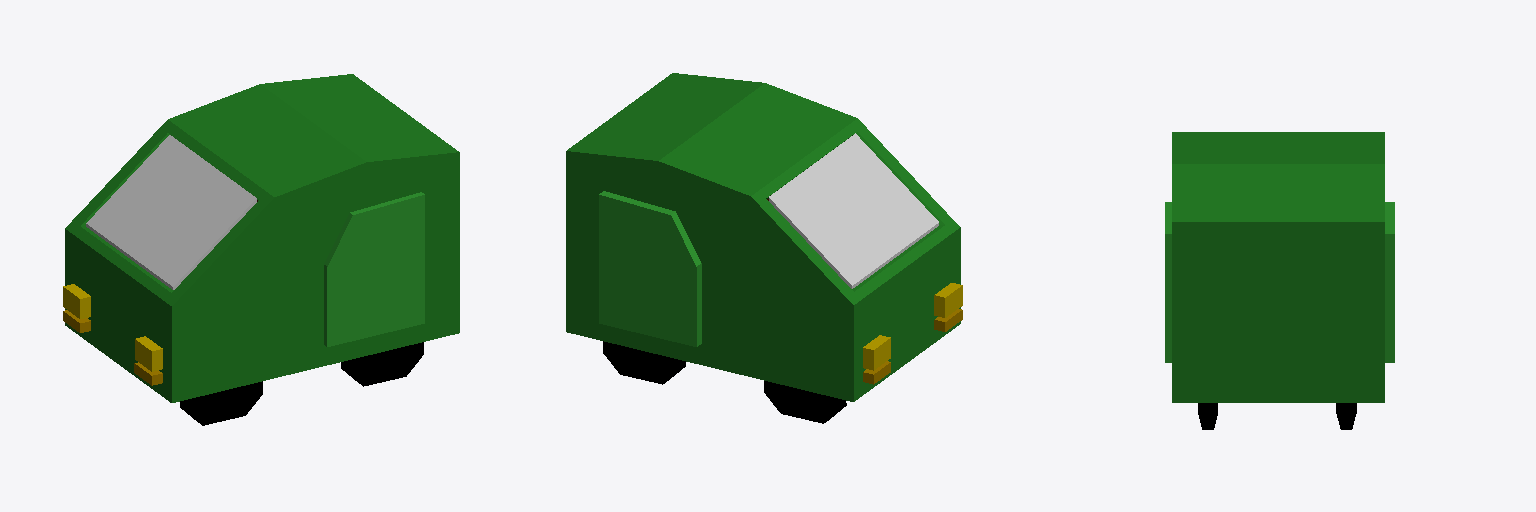
Rendered from Car3.obj.
3 renders of one model, left to right at view 1: azimuth 30°, elevation 25°; view 2: azimuth 150°, elevation 25°; view 3: azimuth 270°, elevation 25°, orthographic.
Visible parts, largest first — view 1: Car_Cube, Window_Cube.003, RightDoor_Cube.011, RightBackWhell_Cube.014, RightFrontWheel_Cube.012, RightFlash_Cube.004, LeftFlash_Cube.002; view 2: Car_Cube, Window_Cube.003, LeftDoor_Cube.010, LeftBackWheel_Cube.015, LeftFrontWheel_Cube.013, RightFlash_Cube.004, LeftFlash_Cube.002; view 3: Car_Cube, LeftDoor_Cube.010, RightDoor_Cube.011.
Boxes of the visible parts, x1=… form: Car_Cube: x1=65, y1=74, x2=459, y2=402; Window_Cube.003: x1=86, y1=135, x2=256, y2=289; RightDoor_Cube.011: x1=324, y1=192, x2=424, y2=346; RightBackWhell_Cube.014: x1=341, y1=342, x2=423, y2=386; RightFrontWheel_Cube.012: x1=180, y1=381, x2=262, y2=425; RightFlash_Cube.004: x1=135, y1=336, x2=162, y2=371; LeftFlash_Cube.002: x1=63, y1=284, x2=90, y2=318; Car_Cube: x1=566, y1=73, x2=960, y2=401; Window_Cube.003: x1=769, y1=133, x2=938, y2=288; LeftDoor_Cube.010: x1=599, y1=191, x2=701, y2=346; LeftBackWheel_Cube.015: x1=603, y1=341, x2=685, y2=384; LeftFrontWheel_Cube.013: x1=764, y1=381, x2=846, y2=423; RightFlash_Cube.004: x1=934, y1=283, x2=962, y2=317; LeftFlash_Cube.002: x1=863, y1=335, x2=890, y2=370; Car_Cube: x1=1172, y1=132, x2=1384, y2=402; LeftDoor_Cube.010: x1=1385, y1=202, x2=1394, y2=362; RightDoor_Cube.011: x1=1165, y1=202, x2=1171, y2=362.
Size of the model in its own units: 3.43 by 2.62 by 2.29.